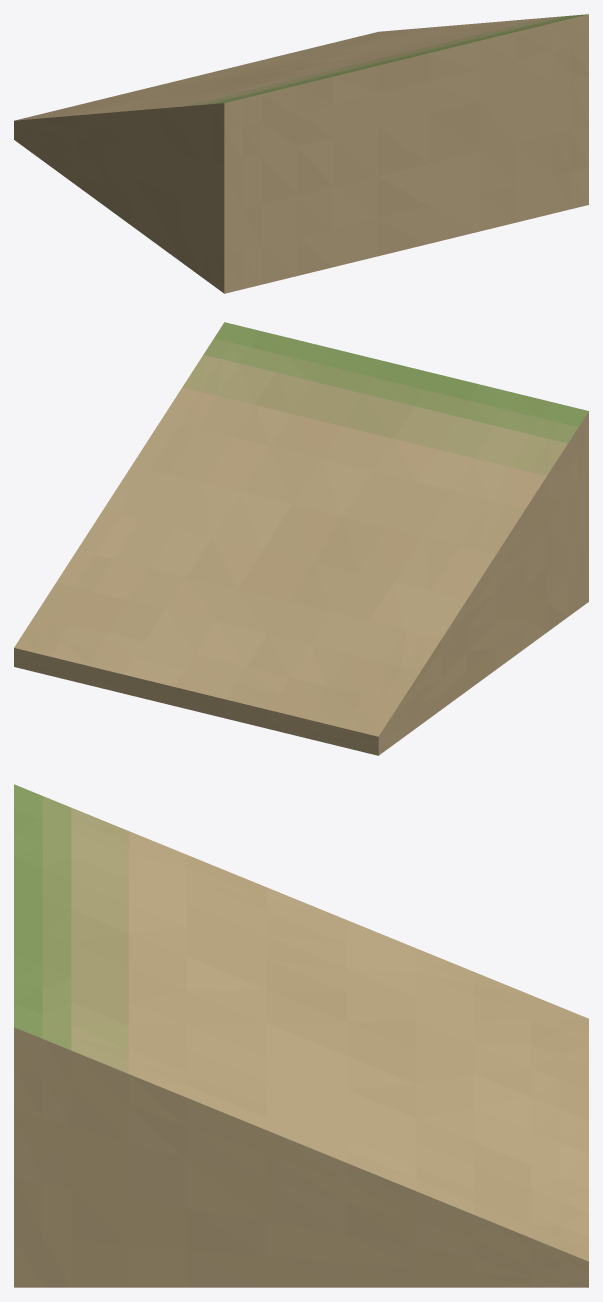
The model's file is sand_beach.glb.
The picture shows the model from 3 angles, top to bottom: view 1: azimuth 30°, elevation 25°; view 2: azimuth 150°, elevation 25°; view 3: azimuth 270°, elevation 25°; orthographic projection. The views are drawn at different scales.
Visible parts, largest first — view 1: sand_beach; view 2: sand_beach; view 3: sand_beach.
Part boxes in pixels (x1,y1,x2,y2): sand_beach: [14, 14, 588, 293]; sand_beach: [14, 322, 588, 755]; sand_beach: [14, 784, 588, 1287].
Size of the model in its own units: 1 by 0.5 by 1.
